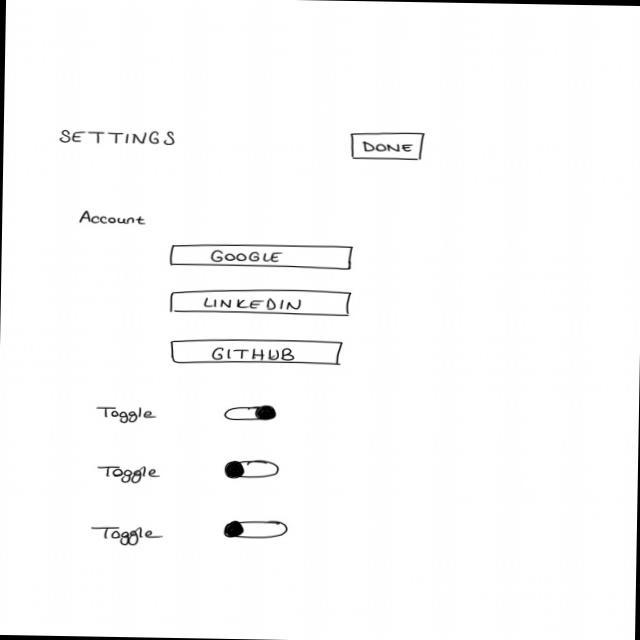button: (169, 287, 354, 317), (170, 338, 345, 368), (169, 243, 355, 271), (350, 132, 426, 162)
label: (59, 130, 178, 148), (89, 526, 165, 548), (96, 465, 162, 486), (96, 406, 158, 425), (78, 211, 149, 227)
toggle: (222, 519, 289, 540), (224, 459, 281, 481), (224, 405, 279, 424)
